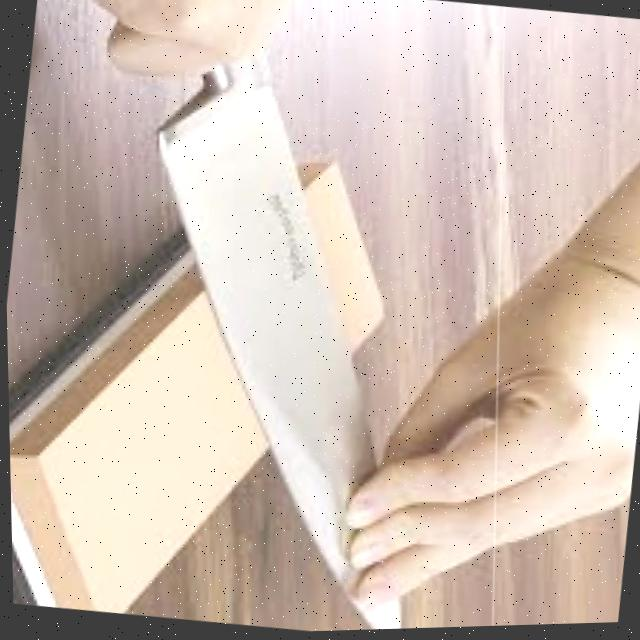knife: (91, 31, 472, 638)
